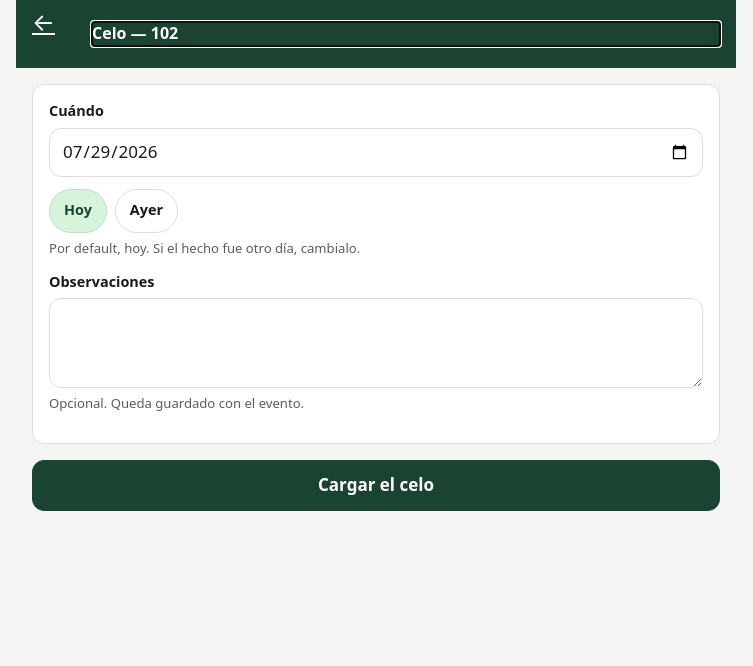
el flujo del rechazo › si la red se cae, lo dice sin inventar un código de dominio
Check: the heading "Celo — 102" is shown, box [92,22,178,44]
What coordinates should you click on to do the following:
click the button "Cargar el celo"
I would click on:
 (376, 486)
Its box is [32,460,720,511].
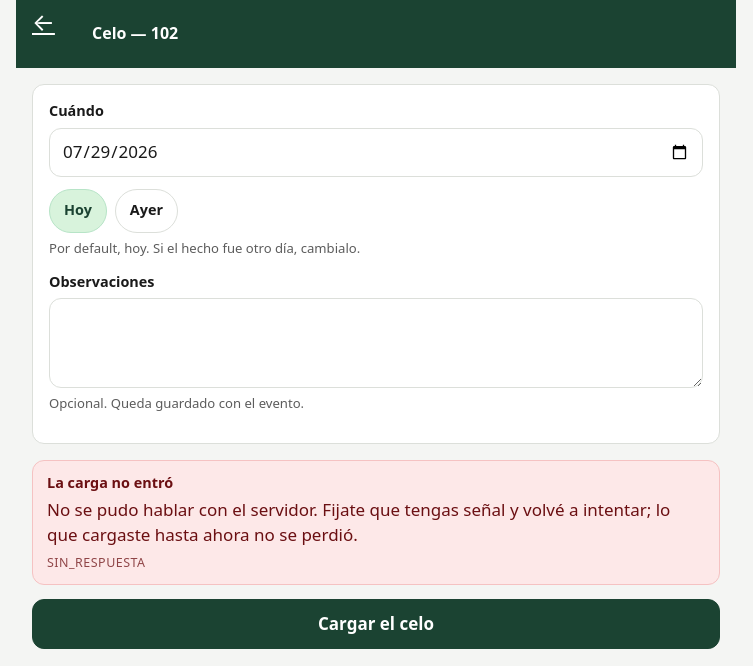
Check: the text "No se pudo hablar con el servidor" is shown, box [47,498,670,546]
Check: the text "SIN_RESPUESTA" is shown, box [47,554,146,571]
